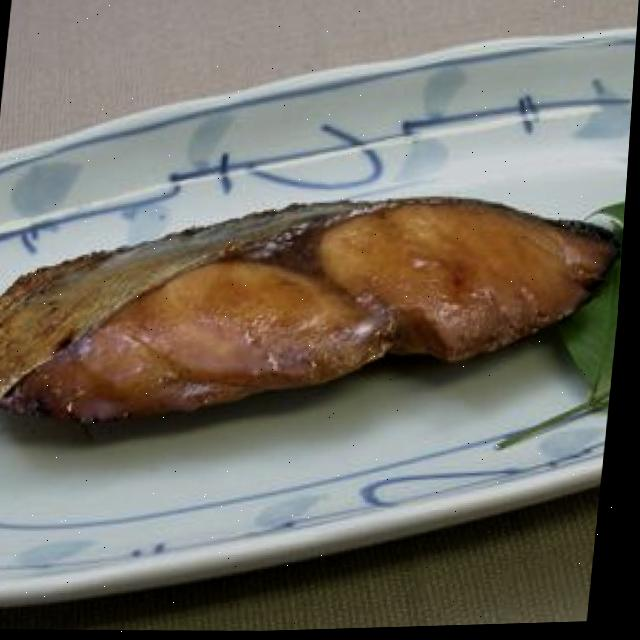熟制海鲜: (0, 156, 631, 455)
